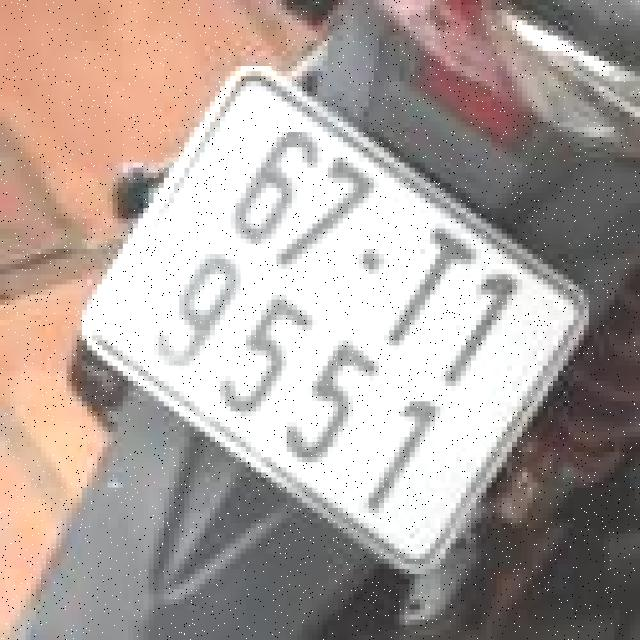1: (346, 365, 456, 538), (443, 255, 532, 410)
5: (206, 272, 318, 436), (282, 312, 386, 478)
6: (207, 97, 330, 264)
7: (272, 137, 383, 300)
9: (140, 237, 253, 390)
T: (374, 212, 485, 367)
